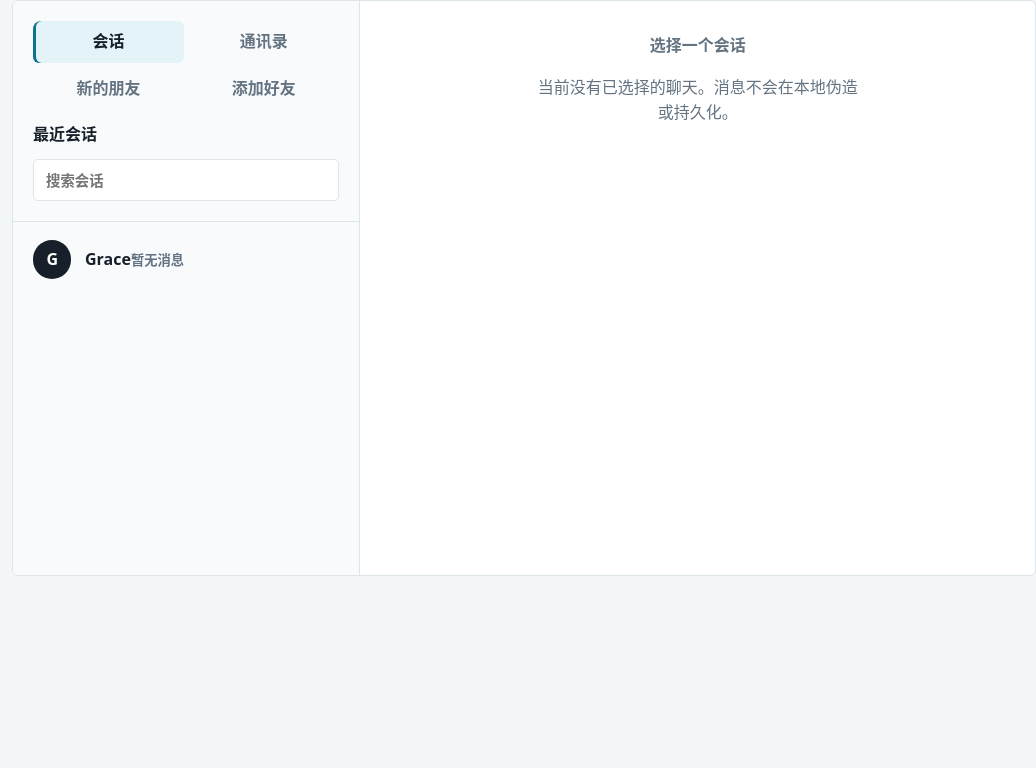
Test: Product Web Backend runtime regressions › reuses the client message ID when retrying a failed send
The image size is (1036, 768).
Click the button "Grace" at (186, 259), box [13, 221, 360, 297]
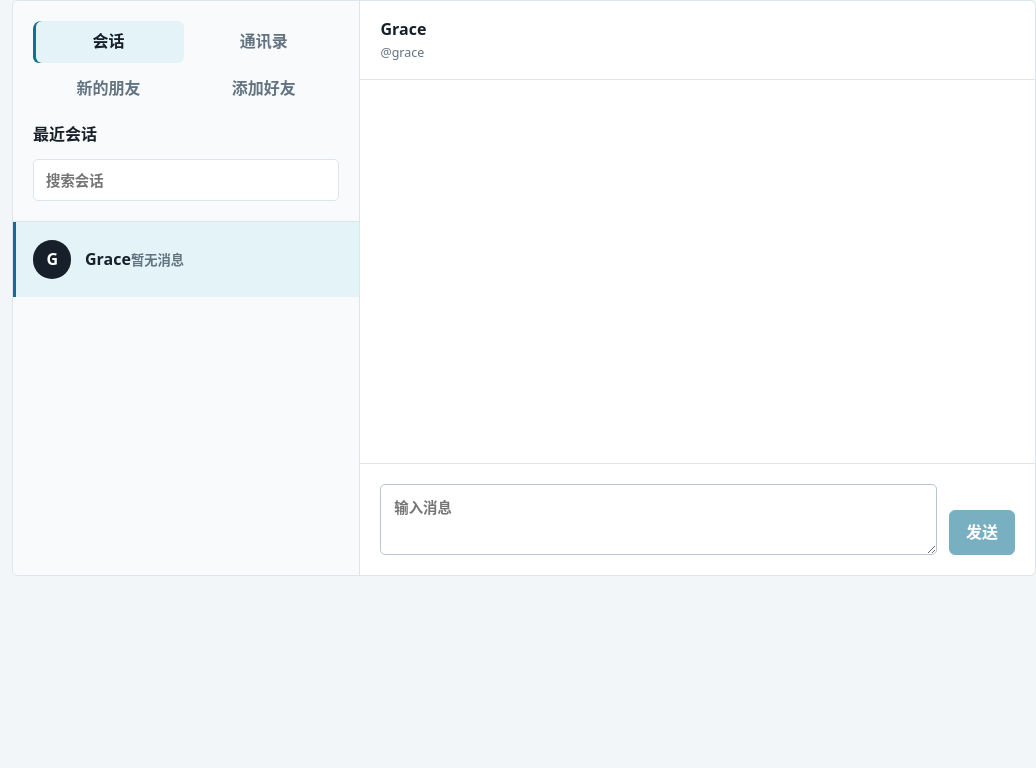
Expected: the text box labelled "输入消息" is shown
Type "同一条消息" into the text box labelled "输入消息" at (659, 519), box [380, 484, 937, 555]
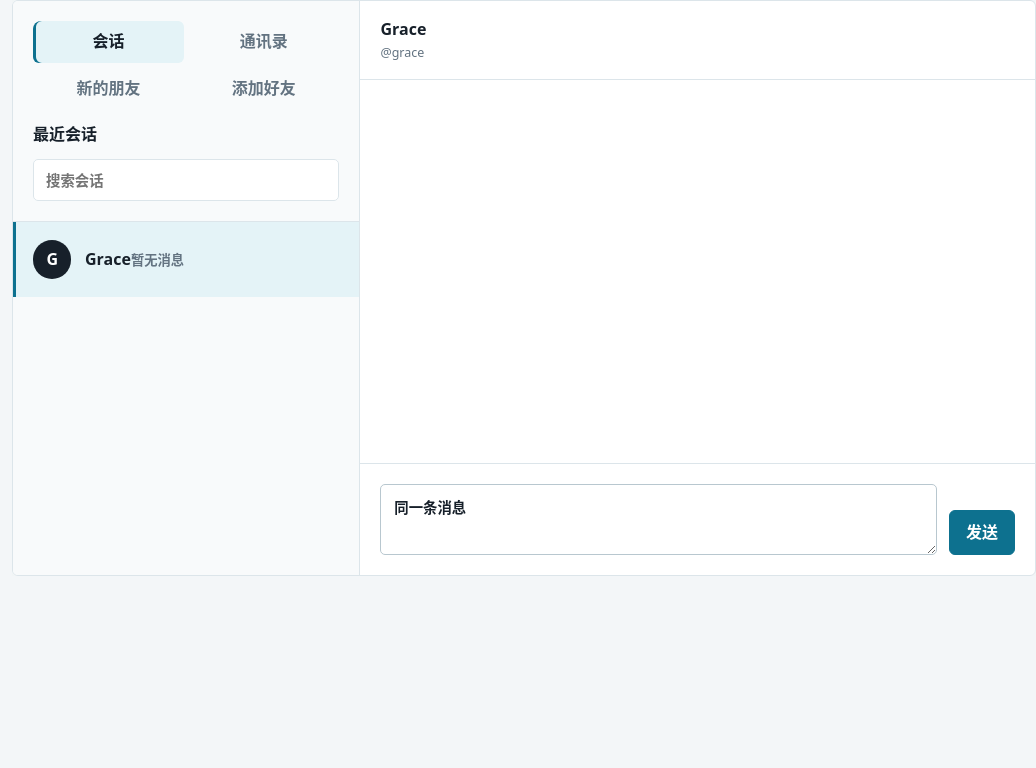
Click the button "发送" at (982, 532), box [949, 510, 1015, 555]
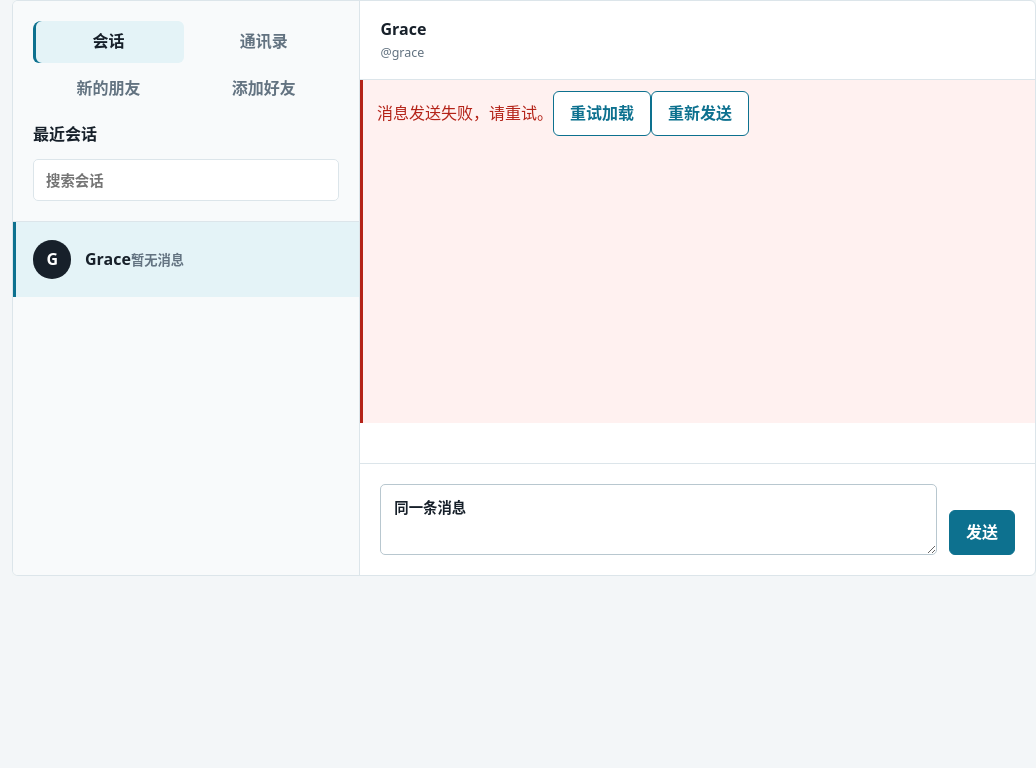
Expected: the button "重新发送" is enabled
Click the button "重新发送" at (700, 113), box [651, 91, 749, 136]
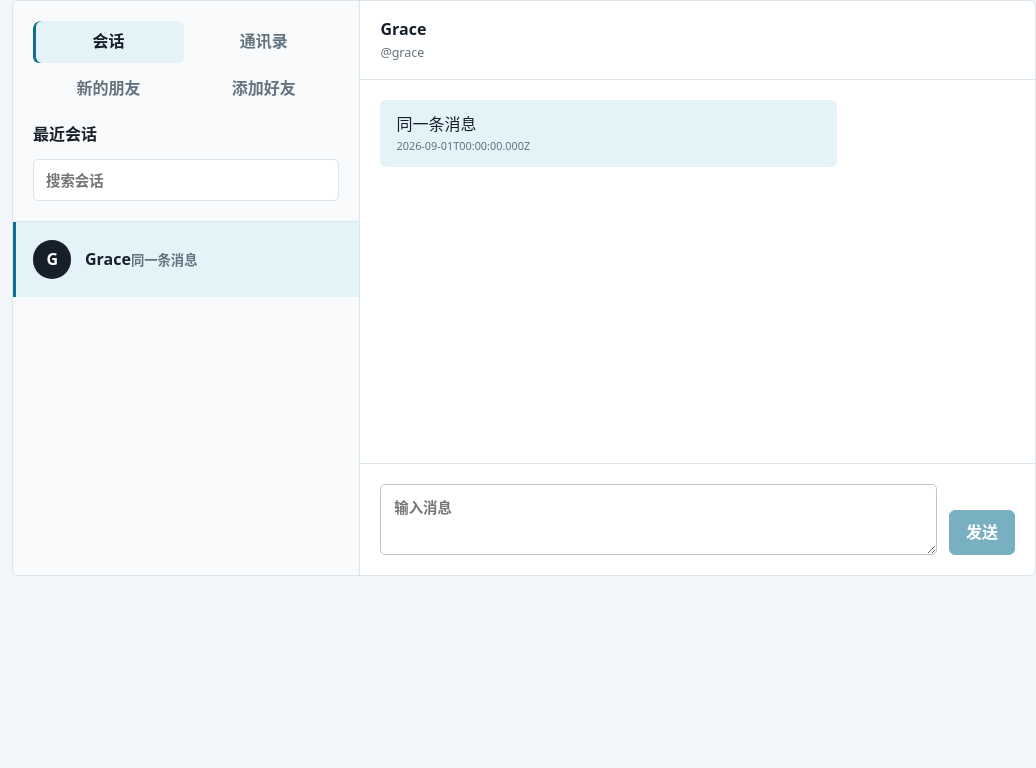
Expected: the element with class "message-bubble" shows "同一条消息", [396, 113, 476, 135]
